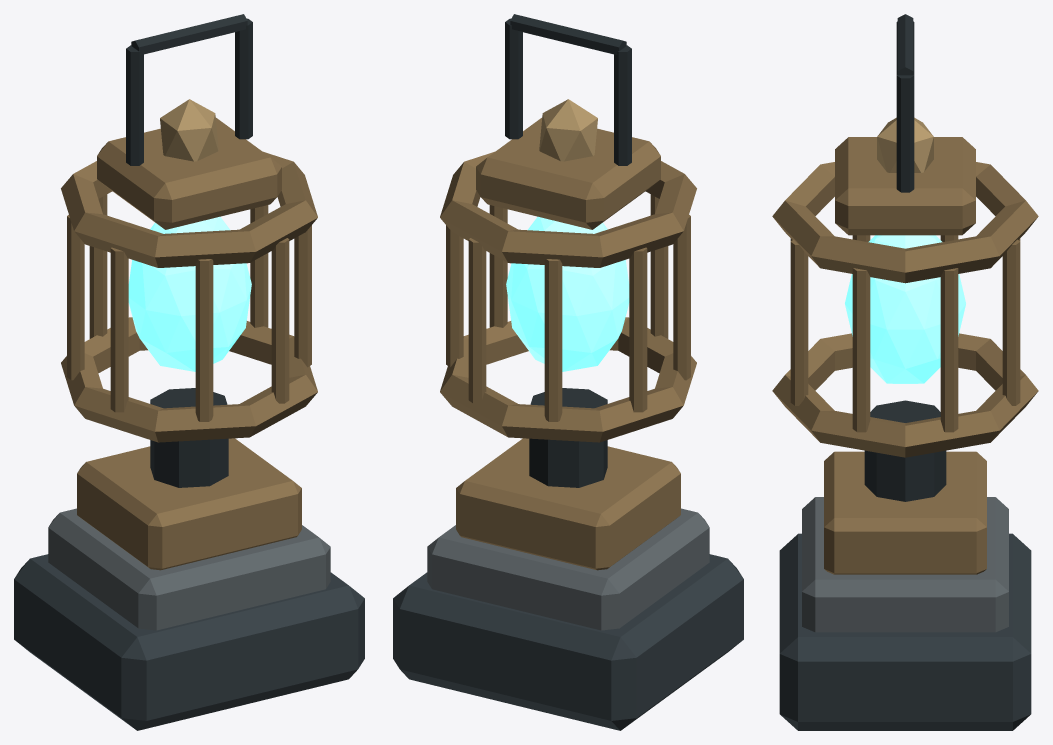
The model's file is warden_soul_lantern.glb.
3 views of the same model, side by side, from view 1: azimuth 30°, elevation 25°; view 2: azimuth 150°, elevation 25°; view 3: azimuth 270°, elevation 25° (orthographic).
Parts seen in each view (by area): view 1: warden_soul_lantern; view 2: warden_soul_lantern; view 3: warden_soul_lantern.
Boxes of the visible parts, left/top/right/bottom form: warden_soul_lantern: left=14, top=14, right=364, bottom=730; warden_soul_lantern: left=393, top=14, right=743, bottom=730; warden_soul_lantern: left=772, top=14, right=1038, bottom=730.
Bounding box in the file's own units: 0.38 × 0.952 × 0.36.
